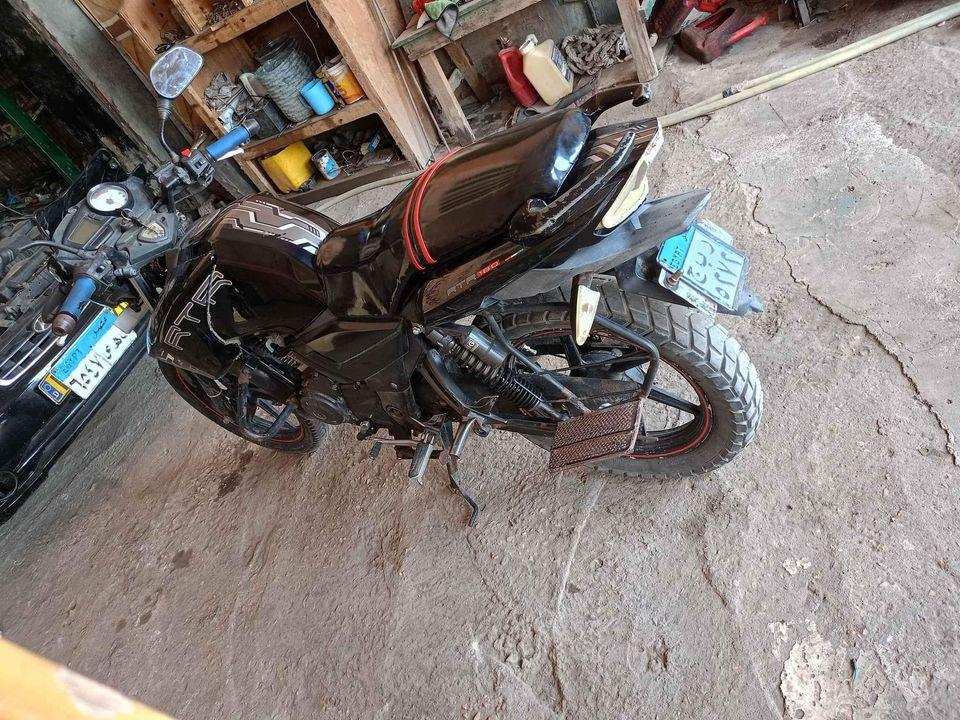License Plate: (43, 308, 144, 399), (657, 221, 750, 311)
